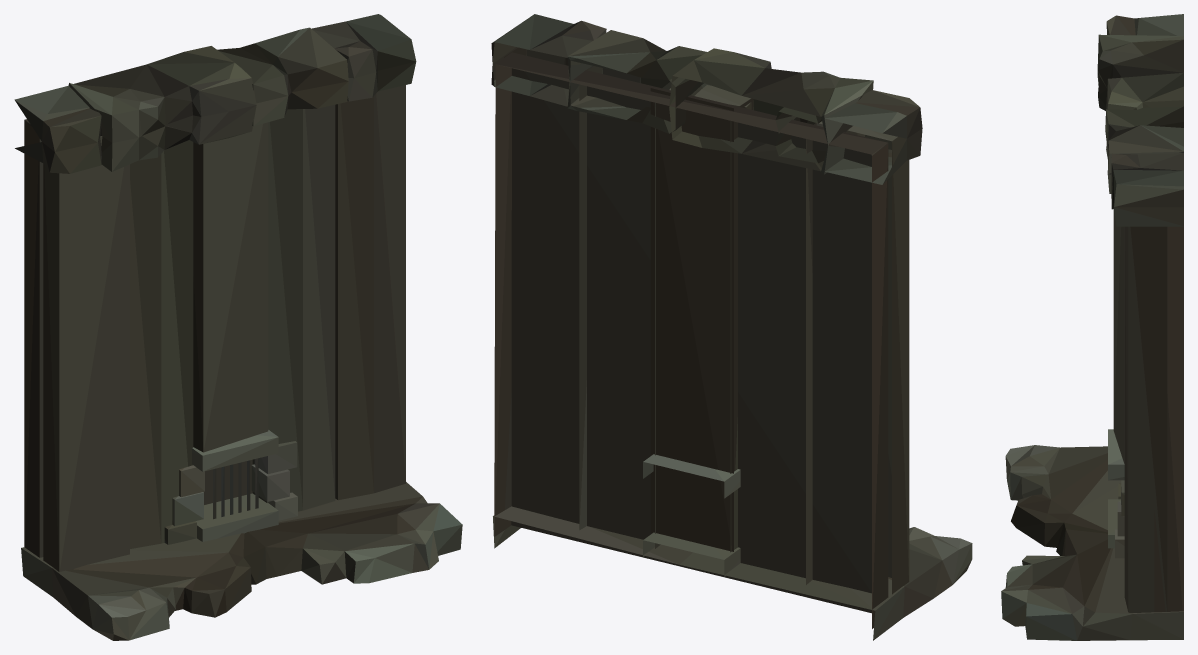
Rendered from wall_C_5m.fbx.
The picture shows the model from 3 angles, left to right: view 1: azimuth 30°, elevation 25°; view 2: azimuth 150°, elevation 25°; view 3: azimuth 270°, elevation 25°; orthographic projection. The views are drawn at different scales.
Parts seen in each view (by area): view 1: wall_C_5m; view 2: wall_C_5m; view 3: wall_C_5m.
Part boxes in pixels (<box>): wall_C_5m: <box>14,14,462,640</box>; wall_C_5m: <box>491,14,972,640</box>; wall_C_5m: <box>1001,14,1183,640</box>.
Size of the model in its own units: 5.18 by 6.54 by 2.34.
